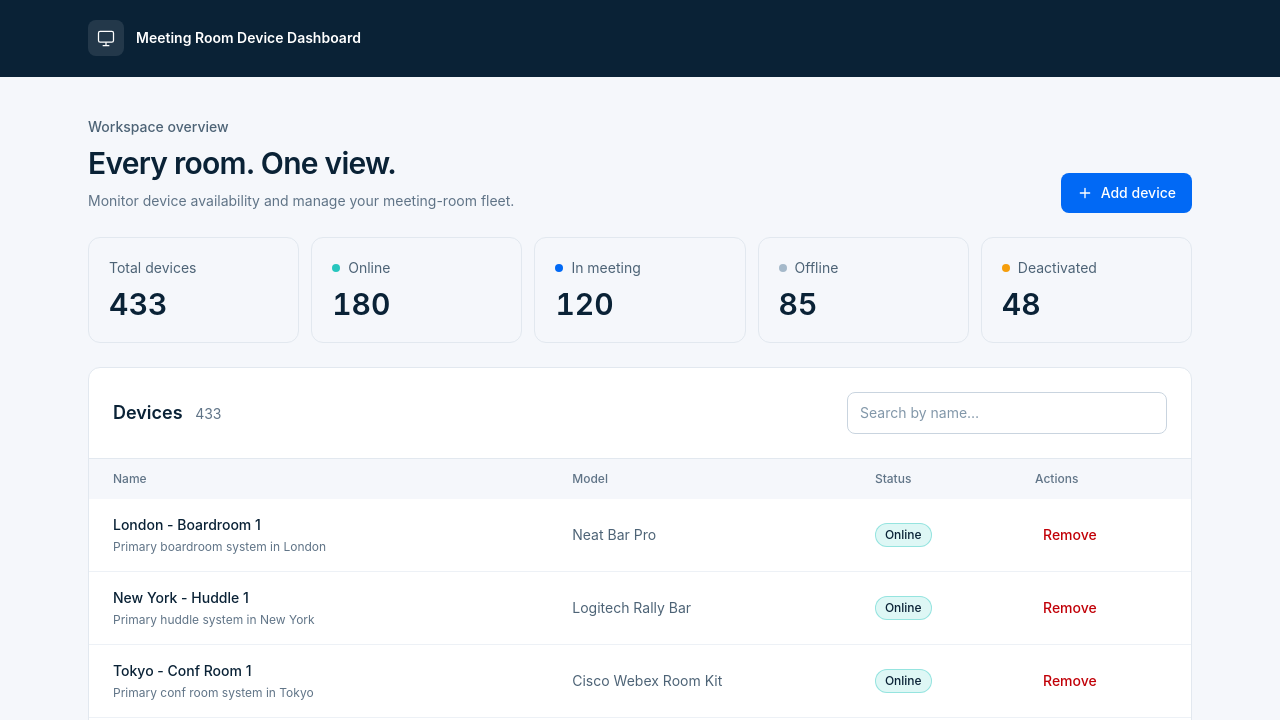
it: device management › adds a device, updates counts, closes the dialog, and announces success
Click the button "Add device" at [1126, 193], box [1061,173,1192,213]
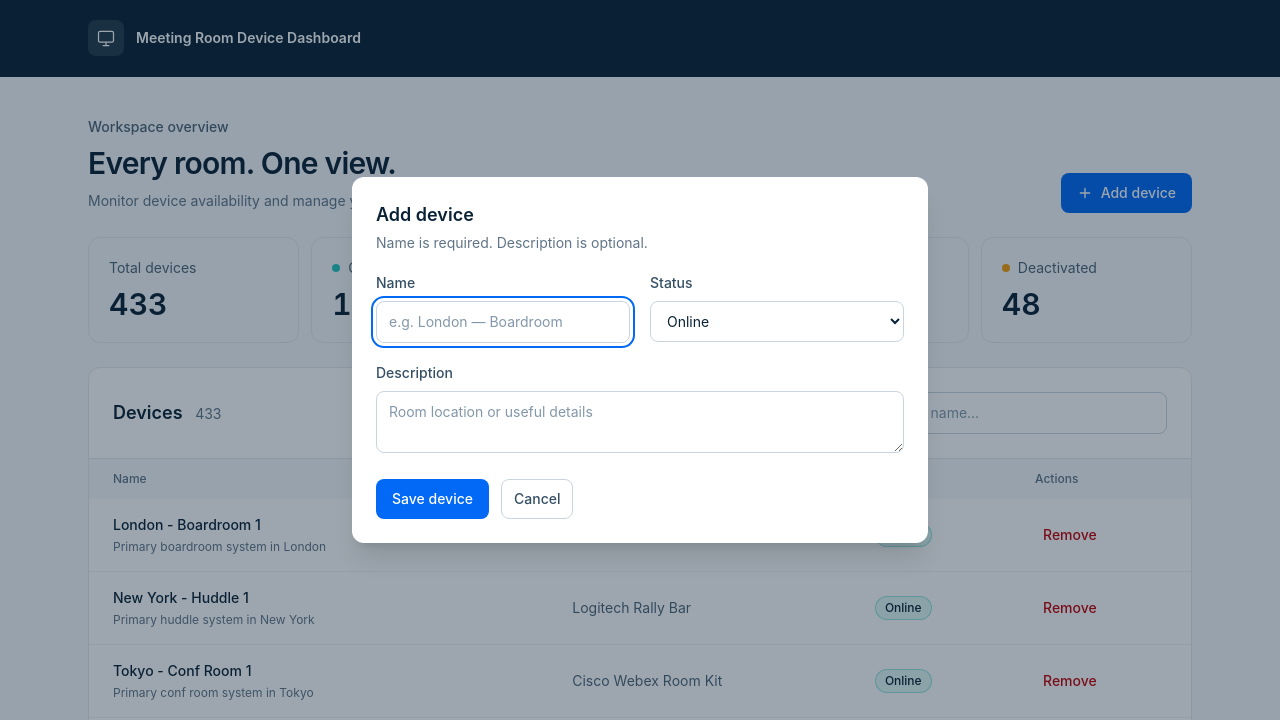
Type "  New meeting room  " into the field labelled "Name" at [503, 322], box [376,301,630,343]
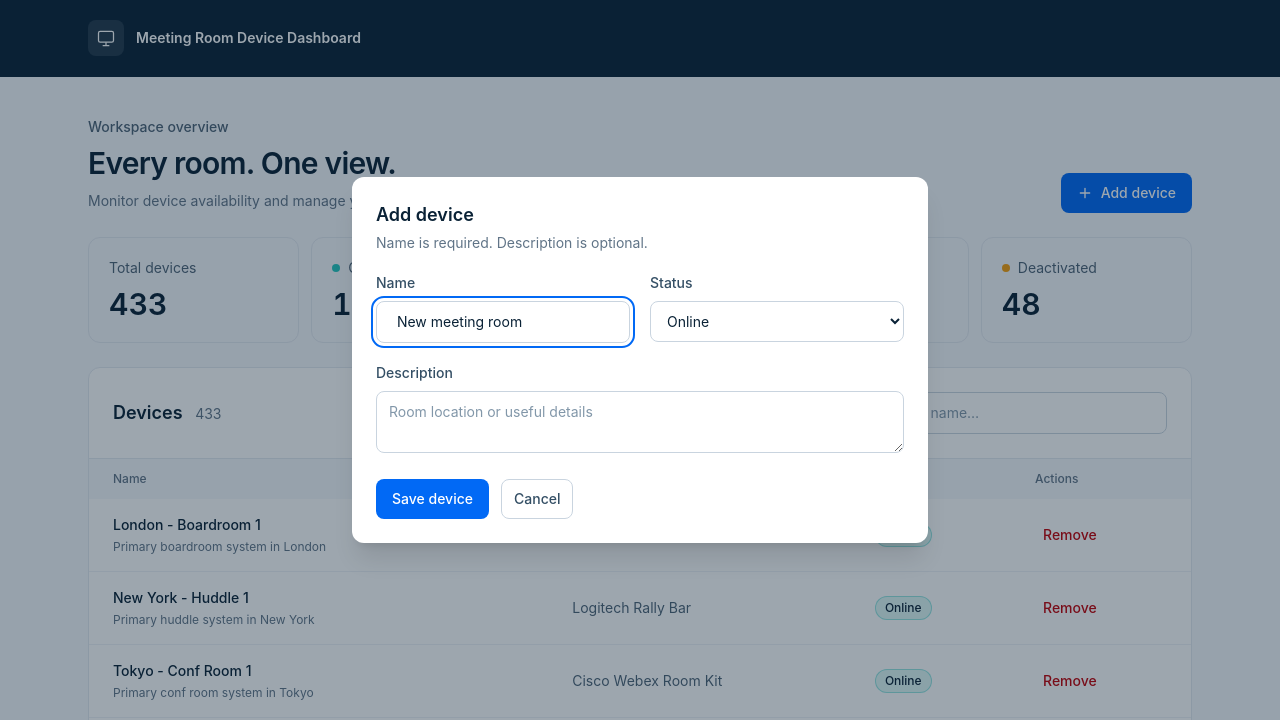
Type "Second floor" into the text box labelled "Description" at [640, 422], box [376,391,904,453]
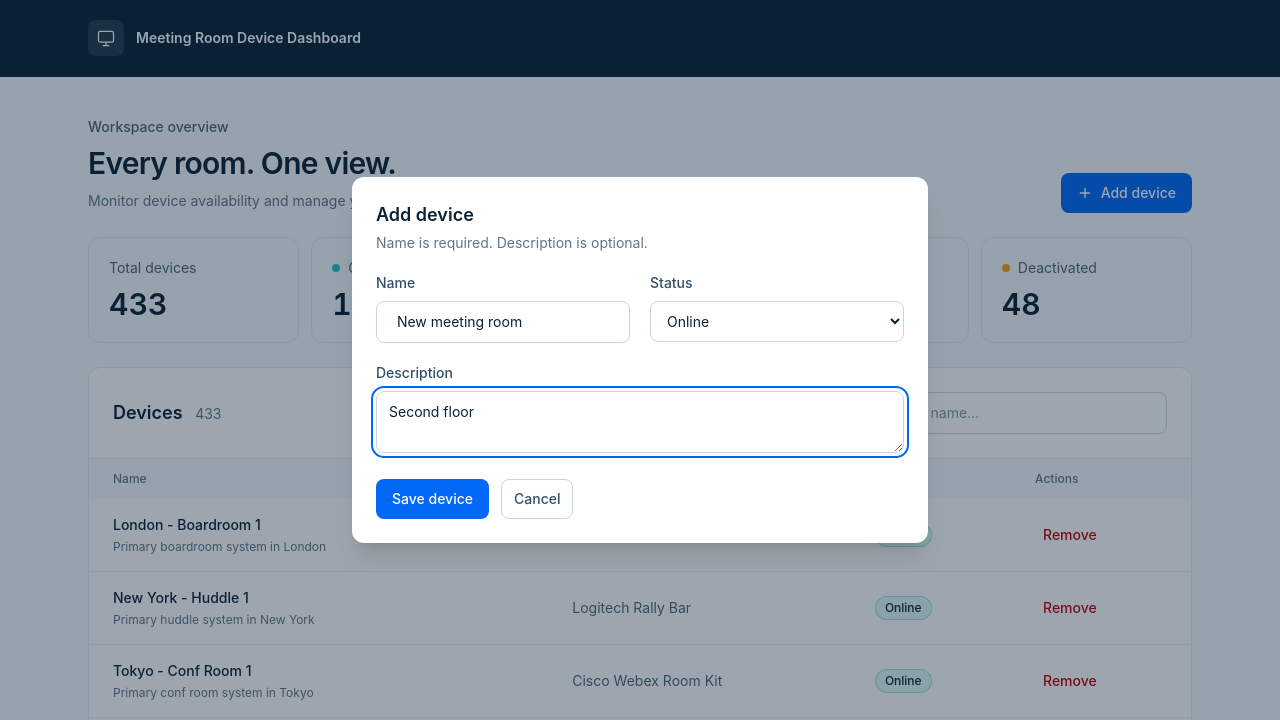
Select "Offline" in the dropdown labelled "Status" at [777, 322], box [650,301,904,342]
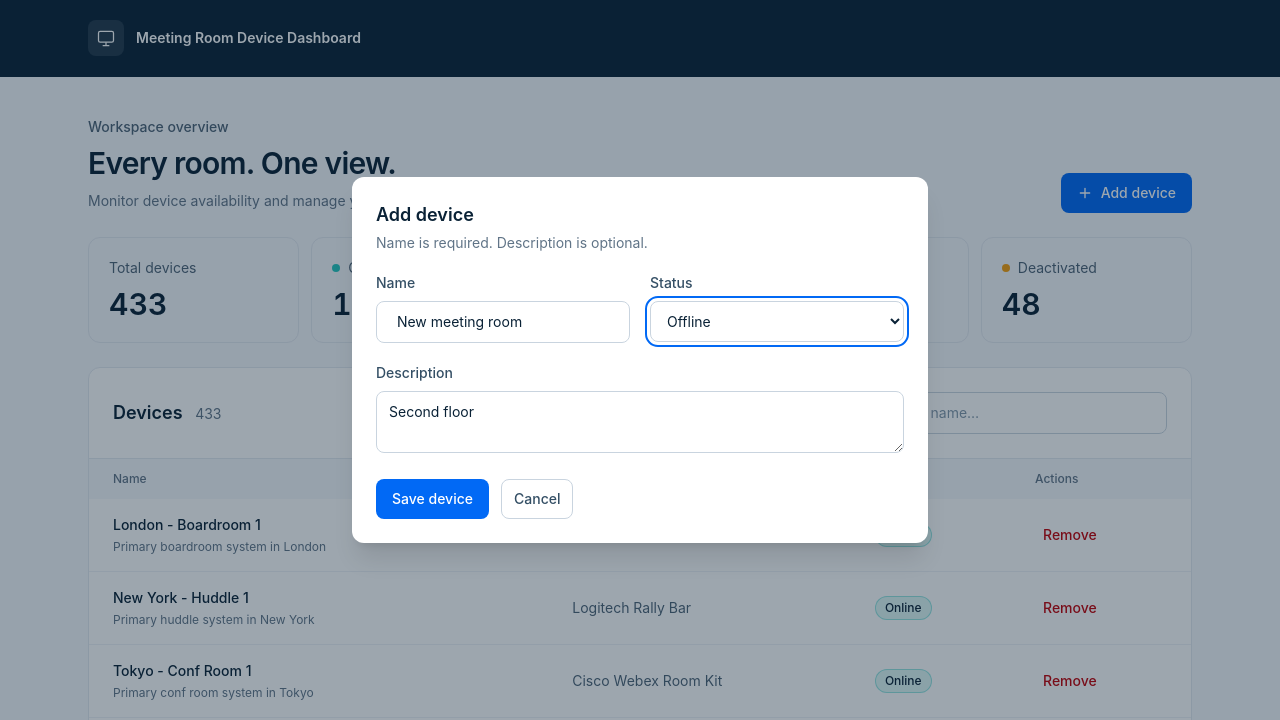
Click the button "Save device" at [432, 499], box [376,479,489,519]
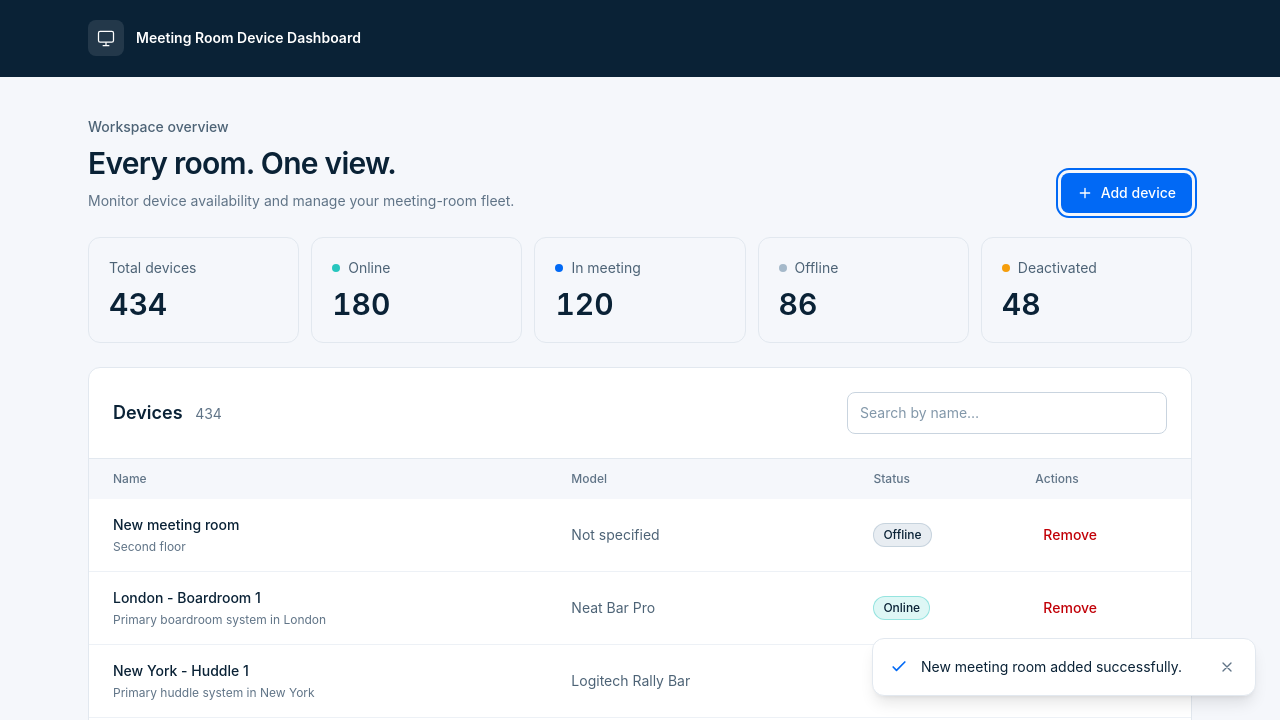
Result: the dialog is gone
Result: the message reads "New meeting room added successfully." at [921,658,1182,675]
Result: the text "Offline" is shown at [873,523,932,547]
